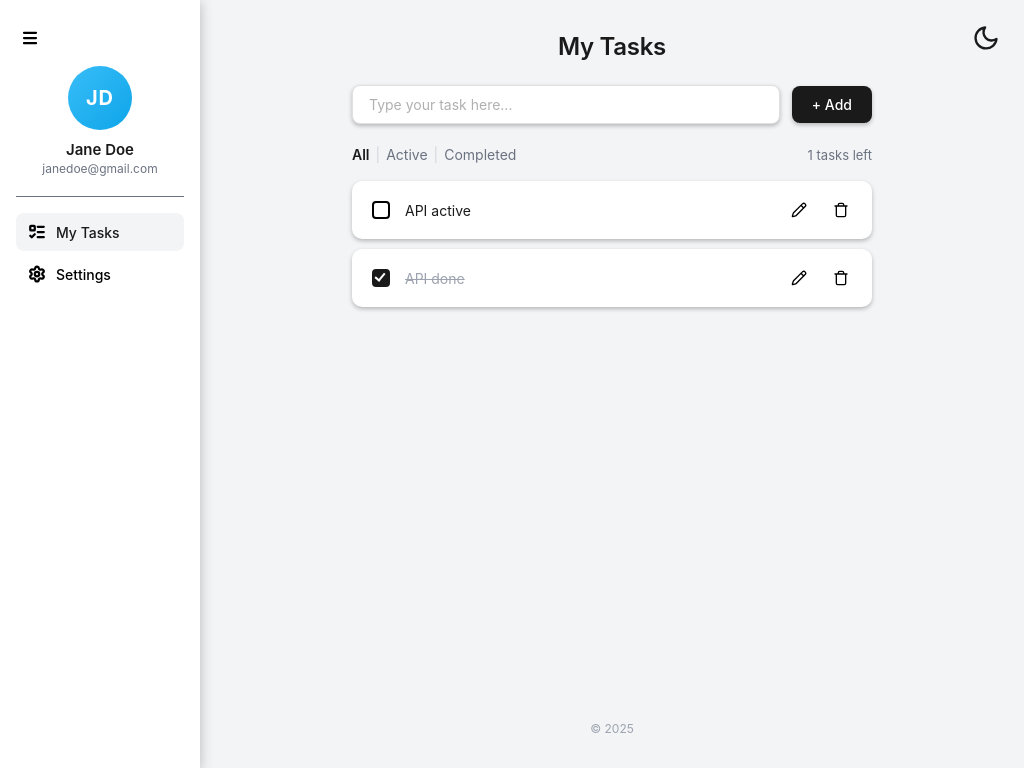
it: TasksPage интеграционные сценарии › Фильтрация: All/Active/Completed + "N tasks left" корректны
The width and height of the screenshot is (1024, 768).
Expected: the text "API active" is shown, x1=405 y1=202 x2=471 y2=218
Expected: the text "API done" is shown, x1=405 y1=270 x2=465 y2=286
Click the button "Active".
click(407, 154)  # box x1=386 y1=144 x2=428 y2=165
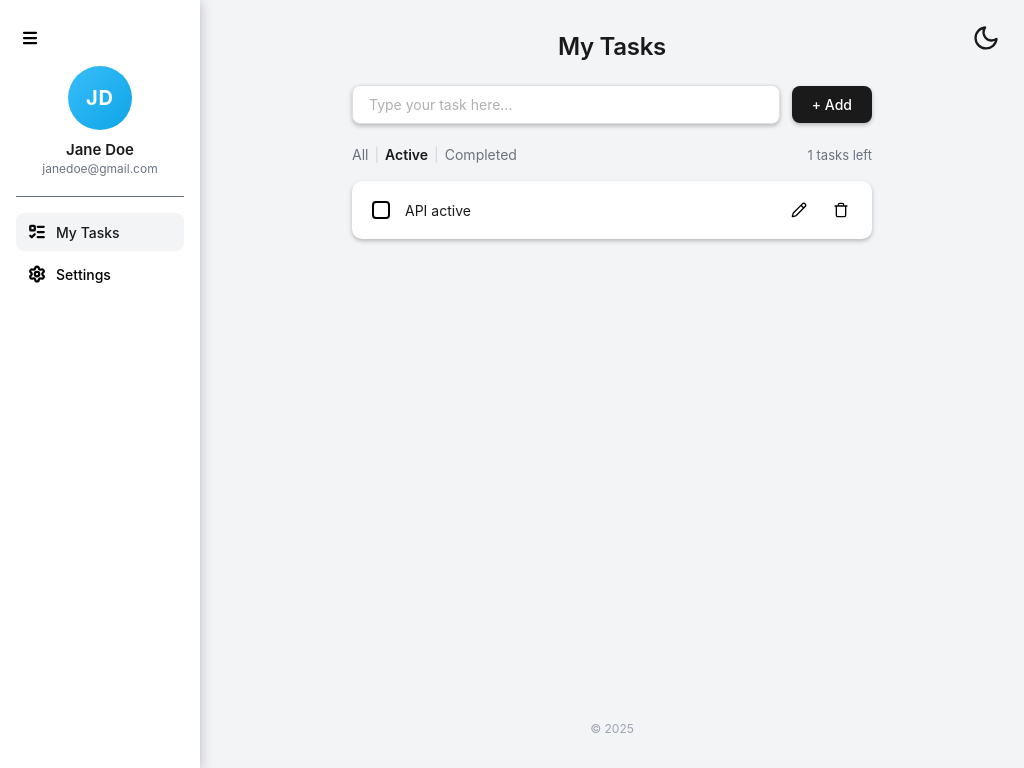
Expected: the text "API active" is shown, x1=405 y1=202 x2=471 y2=218
Now the text "API done" is gone
Click the button "Completed".
click(481, 154)  # box x1=445 y1=144 x2=517 y2=165
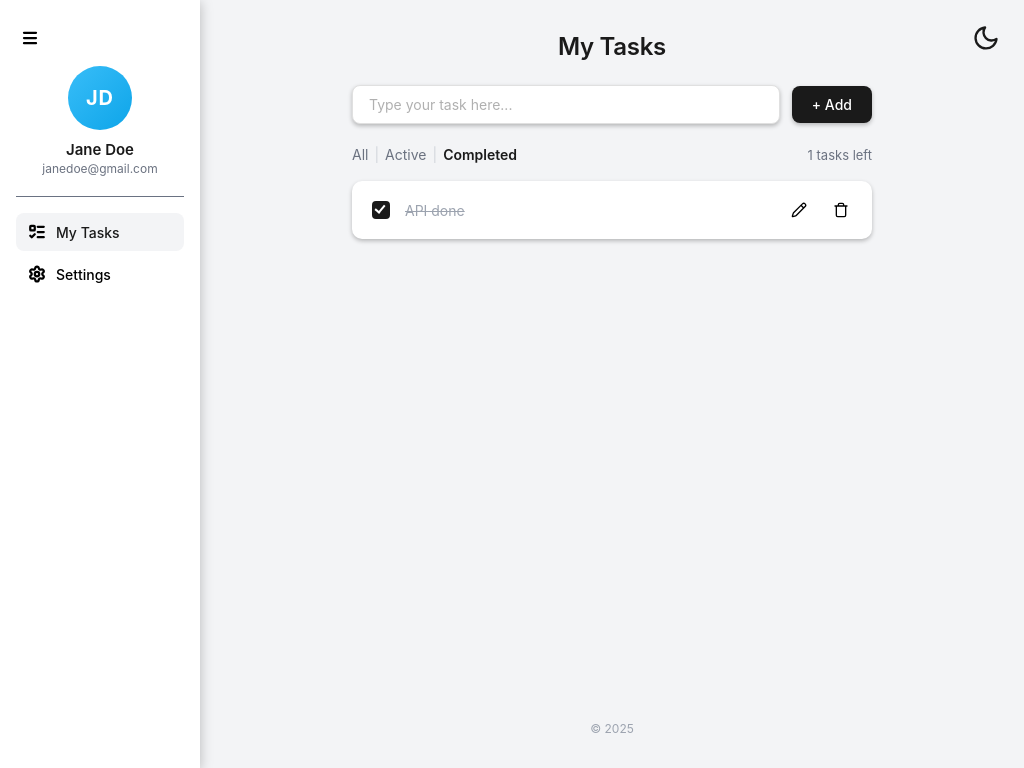
Now the text "API done" is shown, box x1=405 y1=202 x2=465 y2=218
Now the text "API active" is gone
Click the button "All".
click(360, 154)  # box x1=352 y1=144 x2=368 y2=165
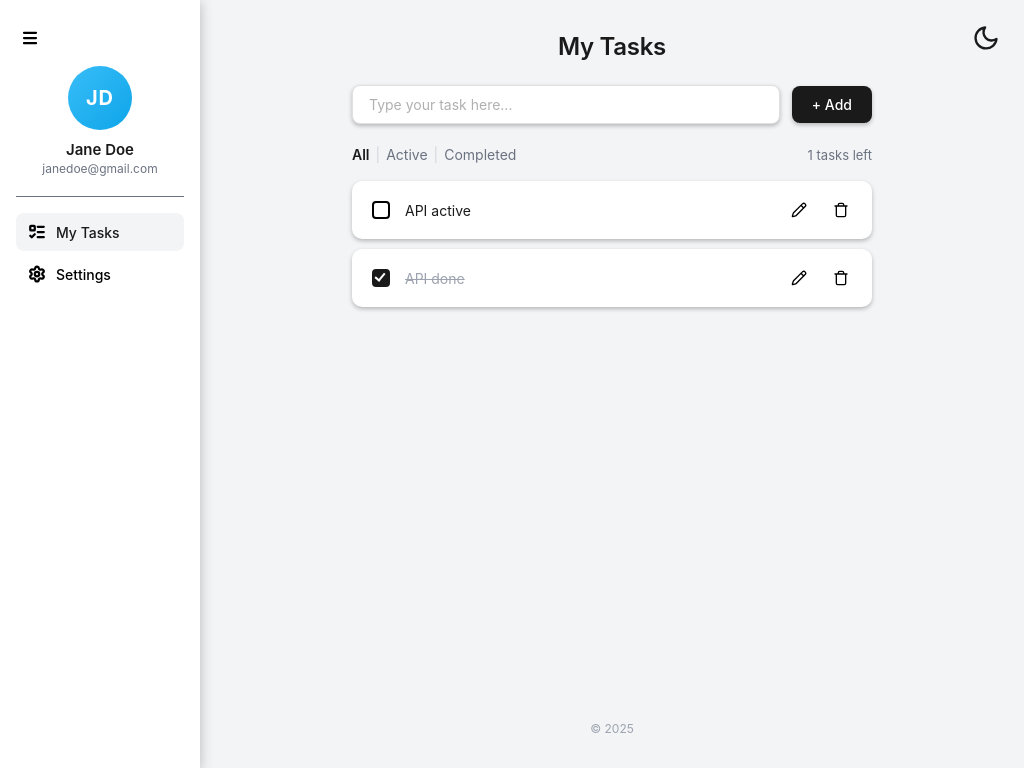
Now the text "API done" is shown, box x1=405 y1=270 x2=465 y2=286
Now the text "API active" is shown, box x1=405 y1=202 x2=471 y2=218
